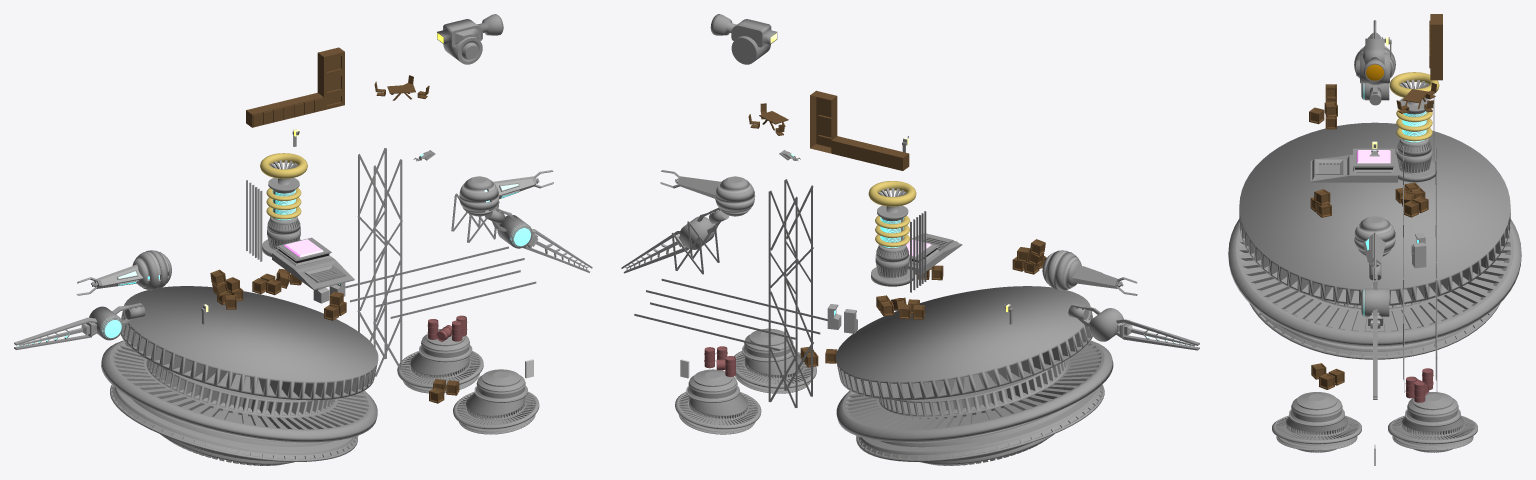
Rendered from test_thing.fbx.
3 views of the same model, side by side, from view 1: azimuth 30°, elevation 25°; view 2: azimuth 150°, elevation 25°; view 3: azimuth 270°, elevation 25° (orthographic). The views are drawn at different scales.
Visible parts, largest first — view 1: engines_back, background, engines_front, battery, dynamo, gun_2_back, gun_1_front, gun_1_back, spotlight, gun_2_front; view 2: engines_back, background, engines_front, battery, gun_2_back, gun_1_back, gun_1_front, spotlight, gun_2_front, dynamo; view 3: engines_back, engines_front, background, battery, dynamo, gun_1_front, gun_2_front, spotlight, gun_2_back, gun_1_back, battery_emission.
Part boxes in pixels (x1,y1,x2,y2): engines_back: [101, 286, 378, 465]; background: [210, 47, 536, 403]; engines_front: [397, 329, 539, 434]; battery: [260, 153, 307, 257]; dynamo: [272, 237, 354, 289]; gun_2_back: [14, 303, 145, 349]; gun_1_front: [459, 170, 553, 216]; gun_1_back: [76, 250, 171, 295]; spotlight: [437, 14, 503, 64]; gun_2_front: [485, 207, 592, 272]; engines_back: [836, 286, 1113, 465]; background: [634, 90, 1046, 407]; engines_front: [675, 328, 816, 434]; battery: [868, 181, 916, 286]; gun_2_back: [1068, 303, 1199, 350]; gun_1_back: [1042, 250, 1137, 295]; gun_1_front: [660, 170, 755, 216]; spotlight: [710, 14, 777, 64]; gun_2_front: [621, 207, 728, 273]; dynamo: [906, 233, 962, 275]; engines_back: [1228, 122, 1521, 359]; engines_front: [1272, 392, 1477, 452]; background: [1309, 14, 1442, 402]; battery: [1389, 72, 1439, 182]; dynamo: [1310, 148, 1397, 182]; gun_1_front: [1354, 216, 1395, 280]; gun_2_front: [1361, 262, 1389, 399]; spotlight: [1356, 38, 1389, 83]; gun_2_back: [1361, 83, 1389, 105]; gun_1_back: [1354, 20, 1395, 85]; battery_emission: [1402, 111, 1426, 142].
Size of what is drawn, in the model's own units: 2.99 by 1.92 by 1.26.
